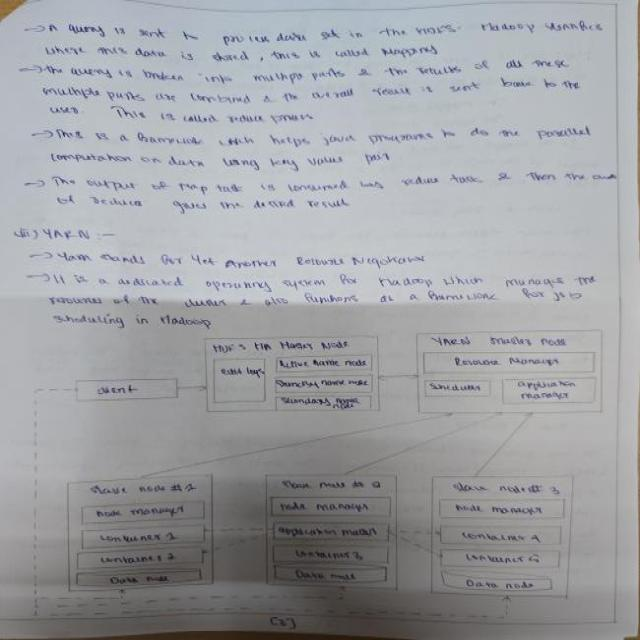Figure Detection - v3 Dataset Version2: (24, 322, 617, 623)
